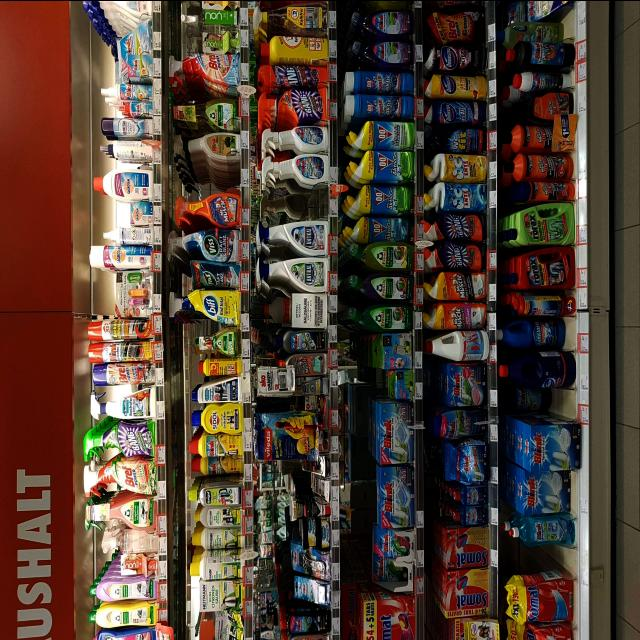empty_space: (521, 546, 575, 572), (548, 390, 578, 412), (561, 318, 576, 346)
